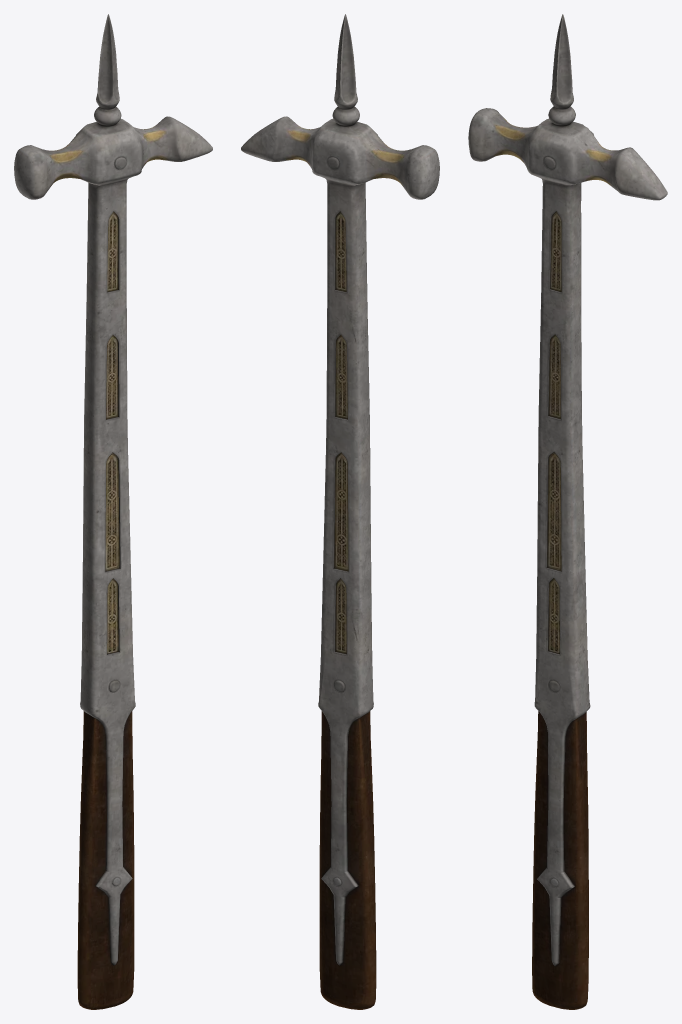
File: ornate_war_hammer.glb
3 renders of one model, left to right at view 1: azimuth 30°, elevation 25°; view 2: azimuth 150°, elevation 25°; view 3: azimuth 330°, elevation 25°, orthographic.
Visible parts, largest first — view 1: ornate_war_hammer; view 2: ornate_war_hammer; view 3: ornate_war_hammer.
Part boxes in pixels (x1,y1,x2,y2): ornate_war_hammer: (14, 14, 212, 1009); ornate_war_hammer: (241, 14, 439, 1009); ornate_war_hammer: (468, 14, 667, 1009).
Bounding box in the file's own units: 0.1441 × 0.7112 × 0.0348.
Materials: 1 (1 with a texture image).
